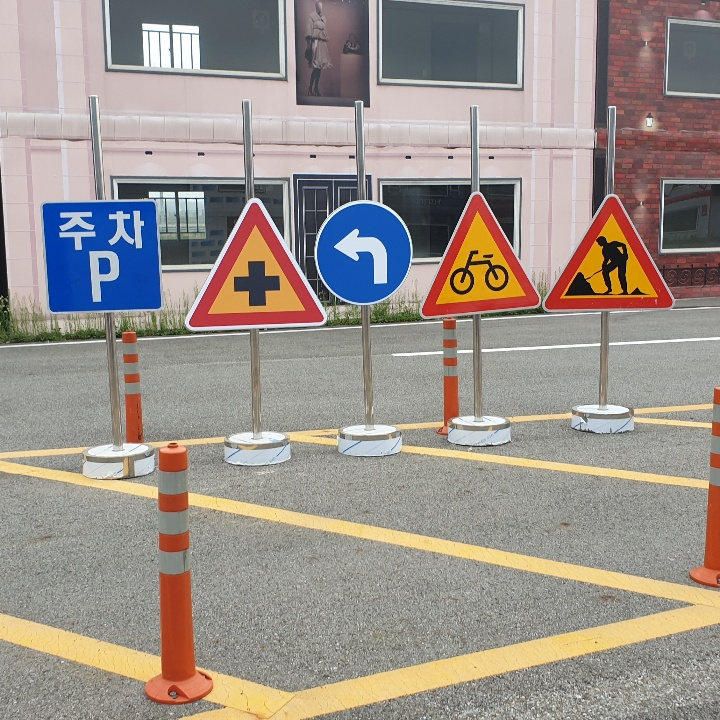bicycle: (429, 195, 537, 313)
const: (567, 233, 649, 298)
inter: (230, 251, 286, 317)
left: (325, 222, 399, 291)
parking: (80, 242, 123, 305)
